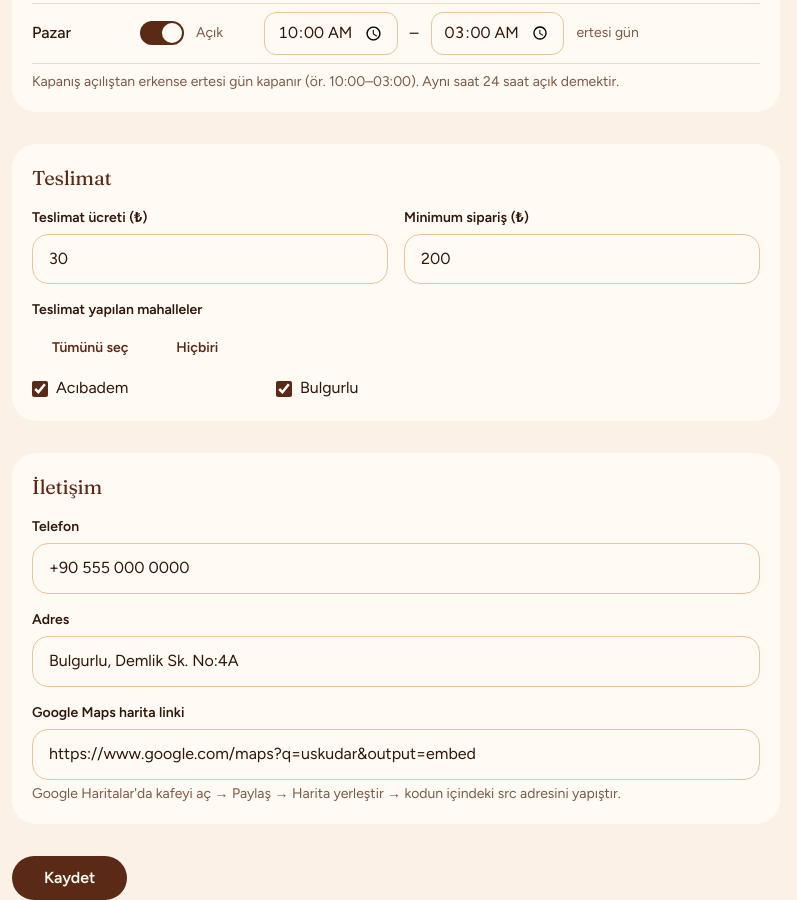
AdminSettingsPage › shows the server validation message
(page scrolled)
Click the button "Kaydet". click: (70, 878)
box: [12, 856, 127, 899]
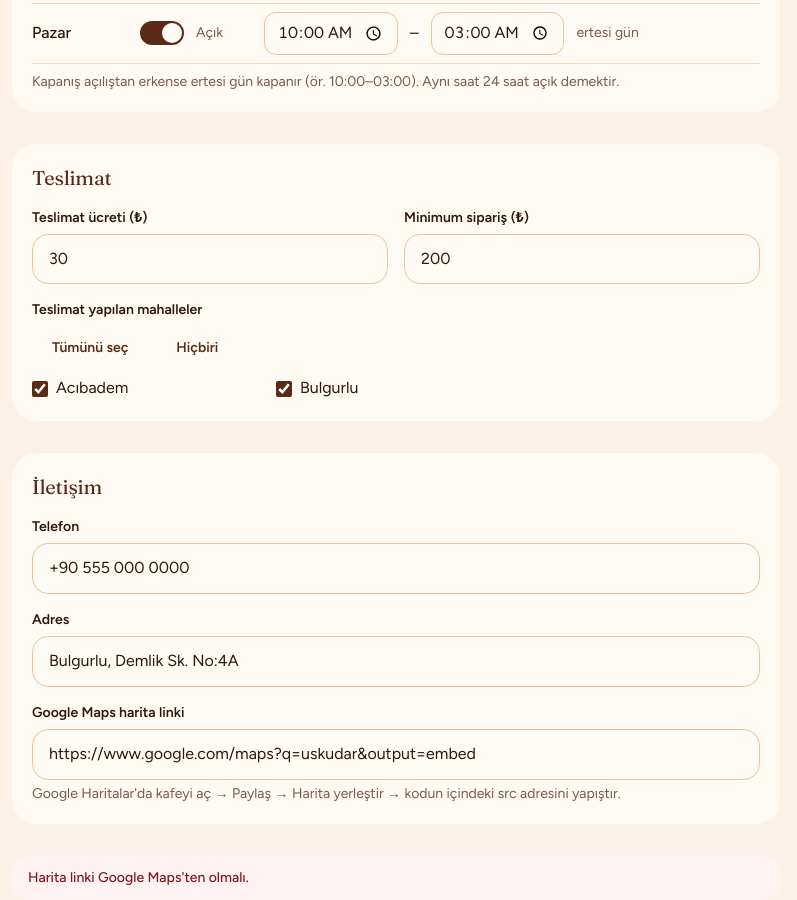
Check: the message reads "Harita linki Google Maps'ten olmalı.", box [28, 869, 249, 886]
